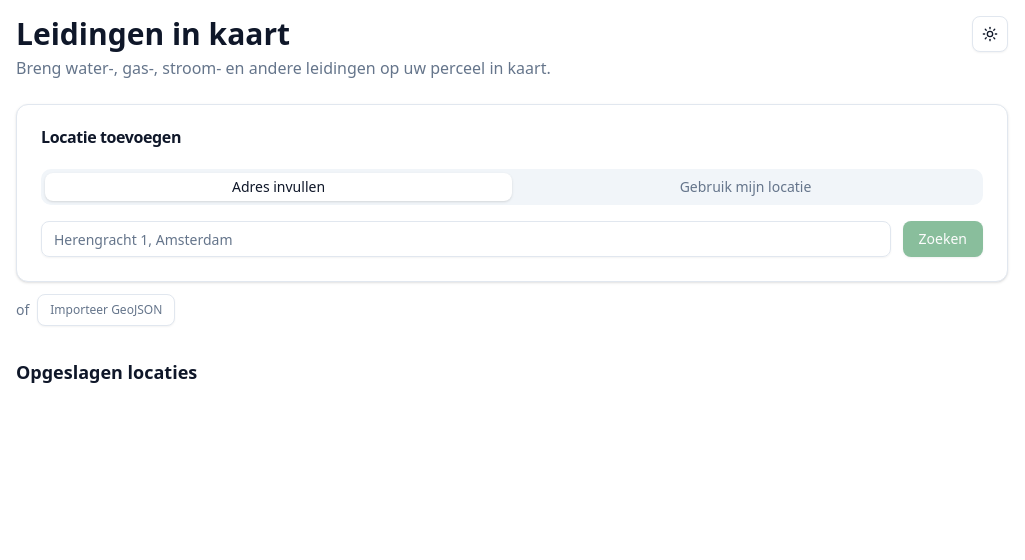
Test: Home › keeps the user editing when a required field is cleared
Type "Herengracht 1" into the field with placeholder "Herengracht 1, Amsterdam". click: point(466, 239)
box: x1=41 y1=221 x2=891 y2=257
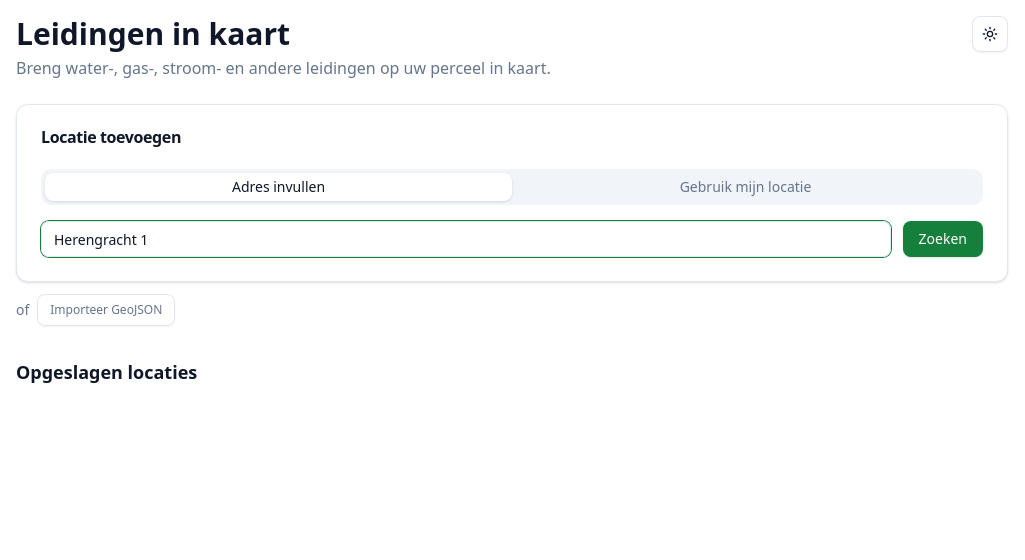
Click the button "Zoeken". click: point(943, 239)
box: x1=903 y1=221 x2=983 y2=257
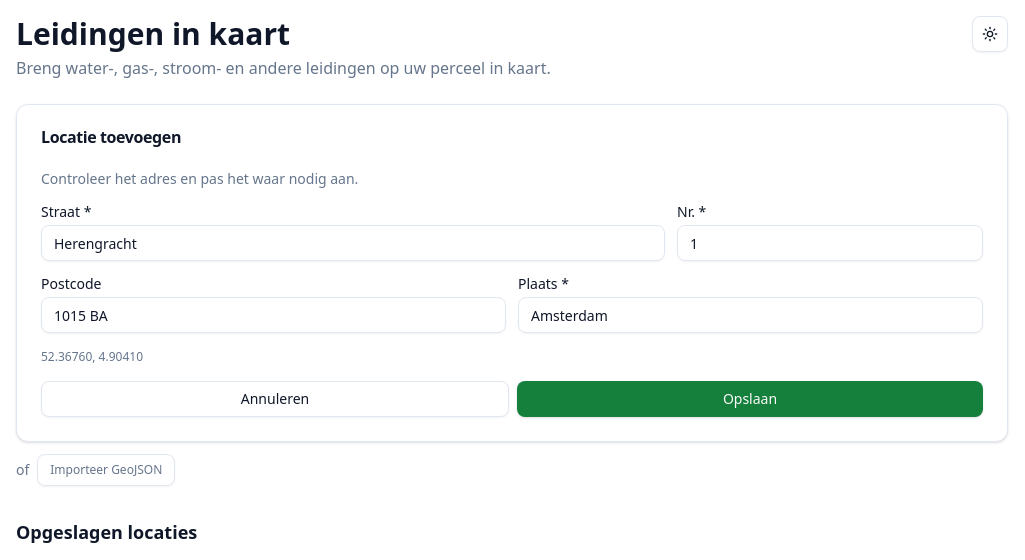
Clear the field showing "Herengracht". click: point(353, 243)
box: x1=41 y1=225 x2=665 y2=261
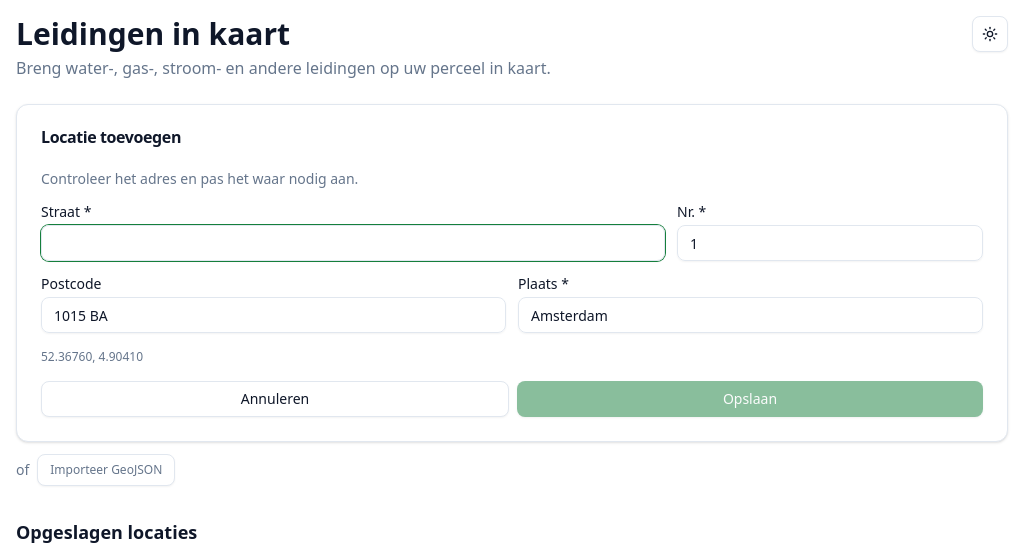
Expected: the button "Opslaan" is disabled, x1=517 y1=381 x2=983 y2=417
